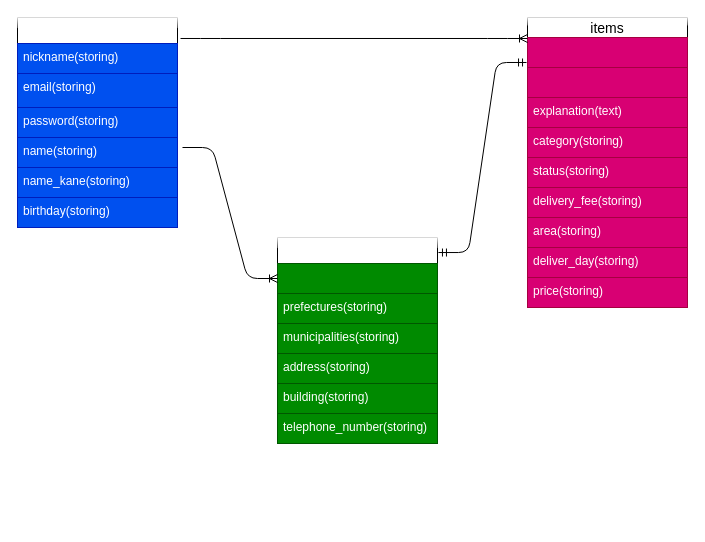
This 705x542 diagram has some shape labels left out. The shapes that lost their labels are listed below. From the top down, each one's box as (x1, y1, x2, y2) in pixels, then its label:
(526, 36, 688, 68): image(storing)
(526, 66, 688, 98): item(storing)
(16, 16, 178, 228): users
(276, 262, 438, 294): postal_code(storing)
(276, 236, 438, 444): purchases
